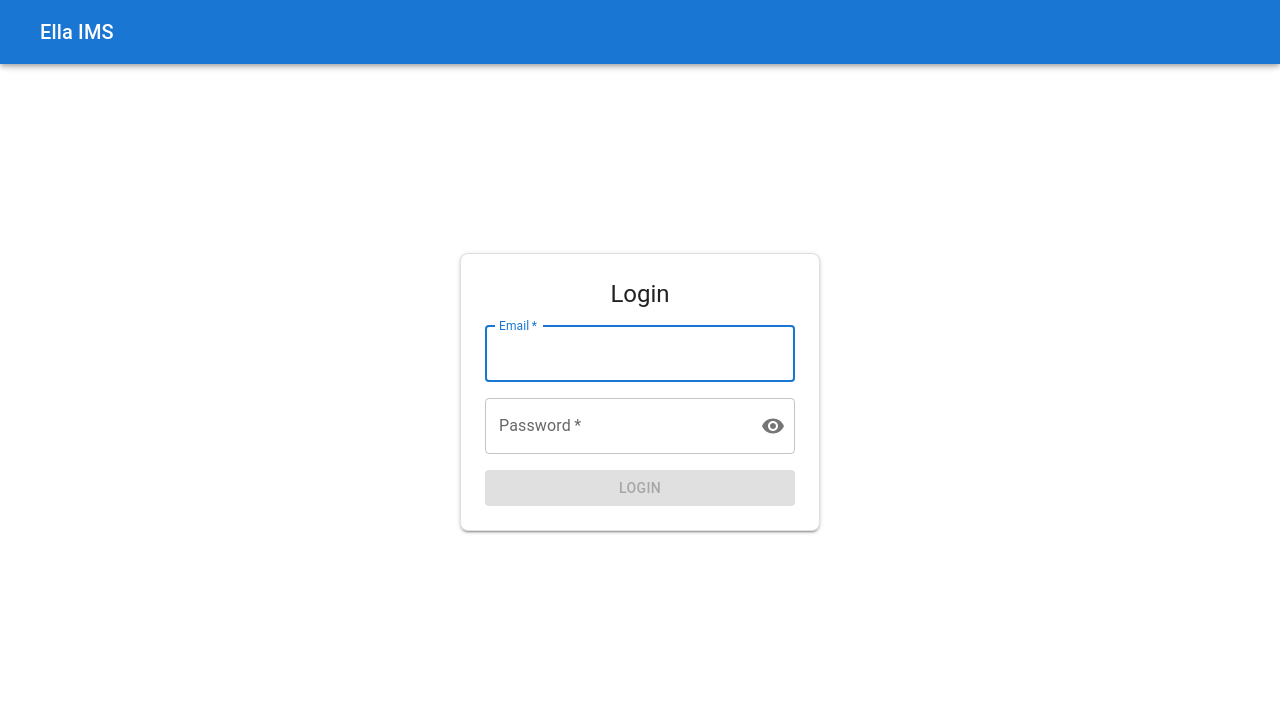
Test: Login › shows why a login failed
expect the heading "Login" is shown: met, box [610,280,670,308]
Type "admin@example.com" into the field labelled "Email" at [640, 354], box [485,326,795,382]
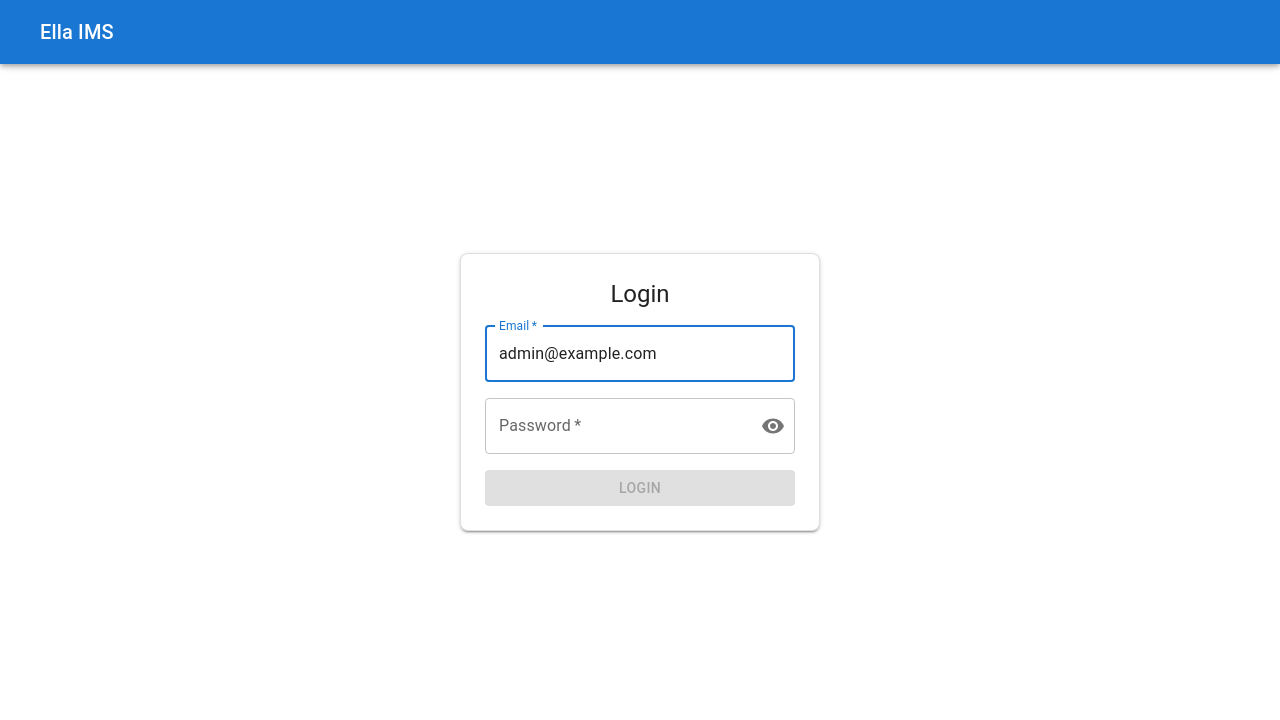
Type "wrong" into the password field labelled "Password" at [615, 426], box [485,398,745,454]
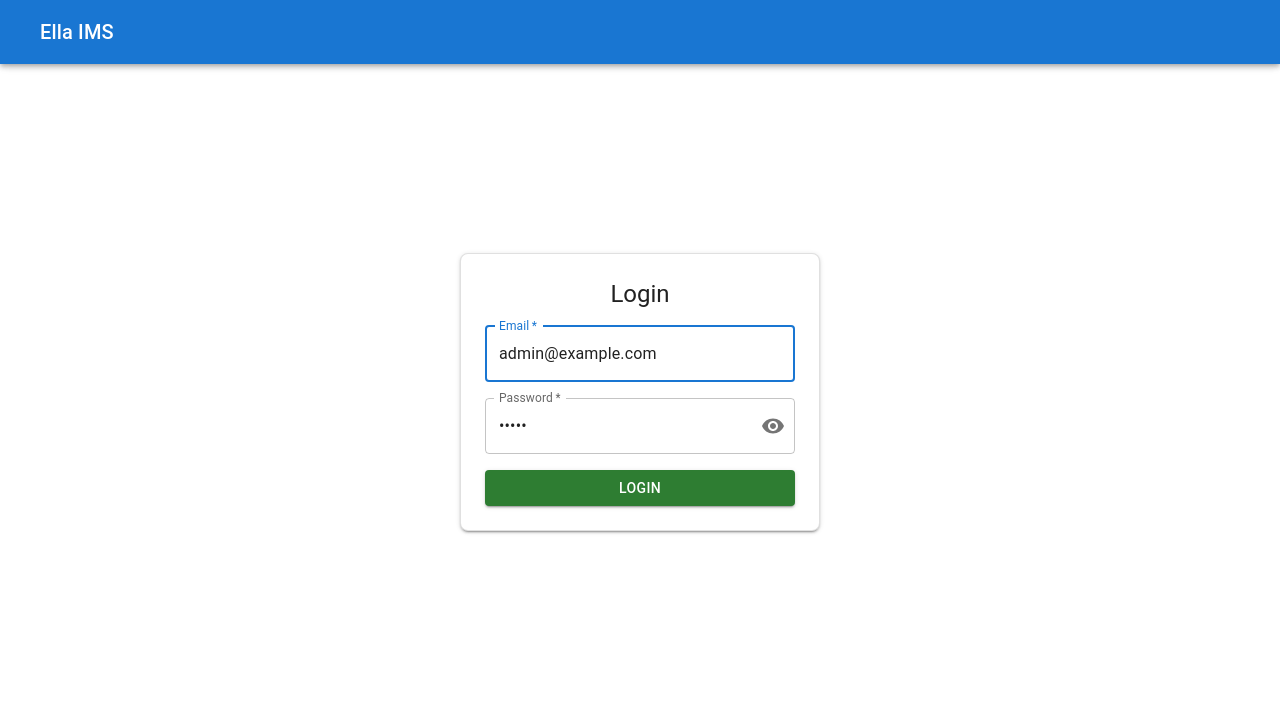
Click the button "Login" at [640, 488], box [485,470,795,506]
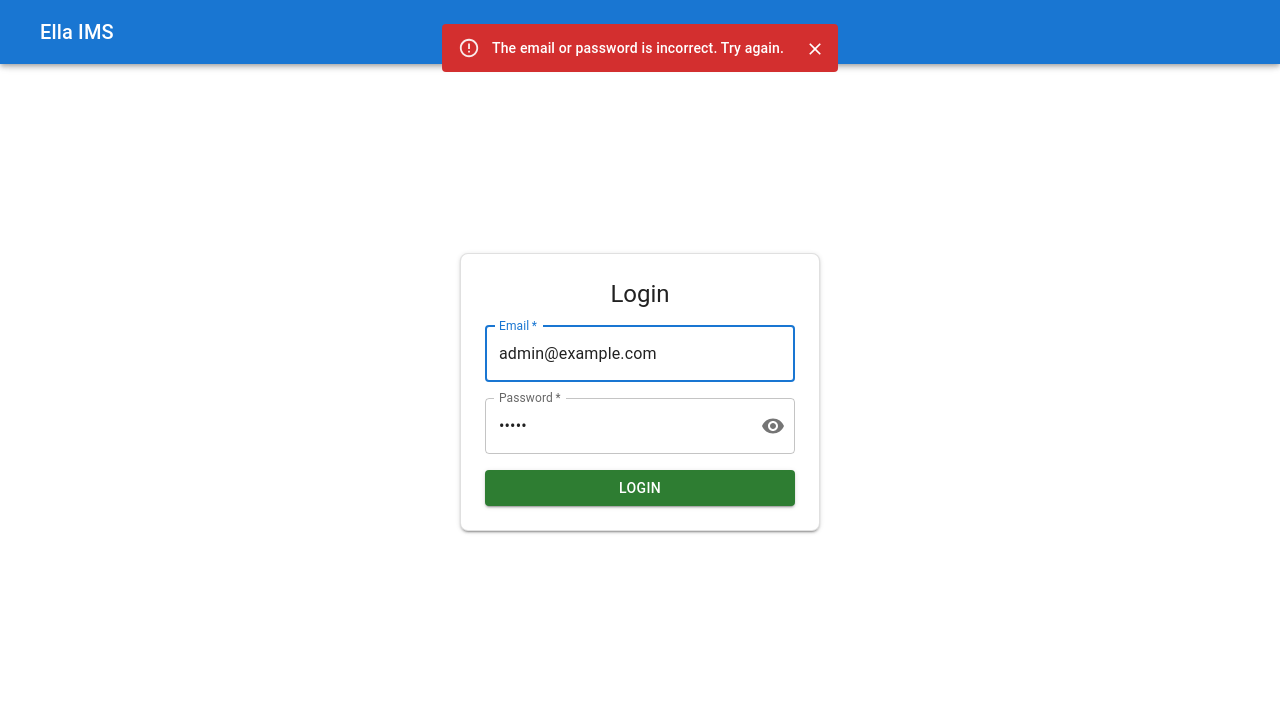
expect the text "The email or password is incorrect. Try again." is shown: met, box [492,40,784,56]
